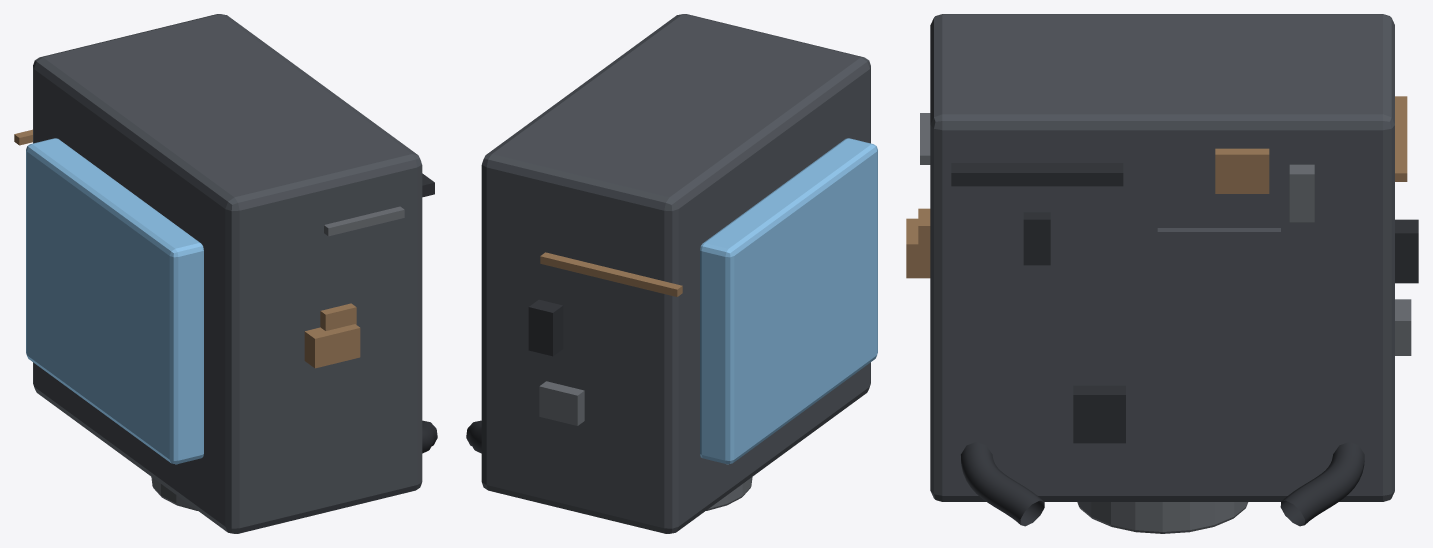
The model's file is module_pack_battery.fbx.
The picture shows the model from 3 angles, left to right: view 1: azimuth 30°, elevation 25°; view 2: azimuth 150°, elevation 25°; view 3: azimuth 270°, elevation 25°; orthographic projection. The views are drawn at different scales.
Visible parts, largest first — view 1: SM_Module_PackBattery; view 2: SM_Module_PackBattery; view 3: SM_Module_PackBattery.
Part boxes in pixels (x1,y1,x2,y2): SM_Module_PackBattery: [14, 14, 437, 533]; SM_Module_PackBattery: [466, 14, 877, 533]; SM_Module_PackBattery: [906, 14, 1418, 533].
Size of what is drawn, in the model's own units: 39.84 by 51.5 by 55.1.
